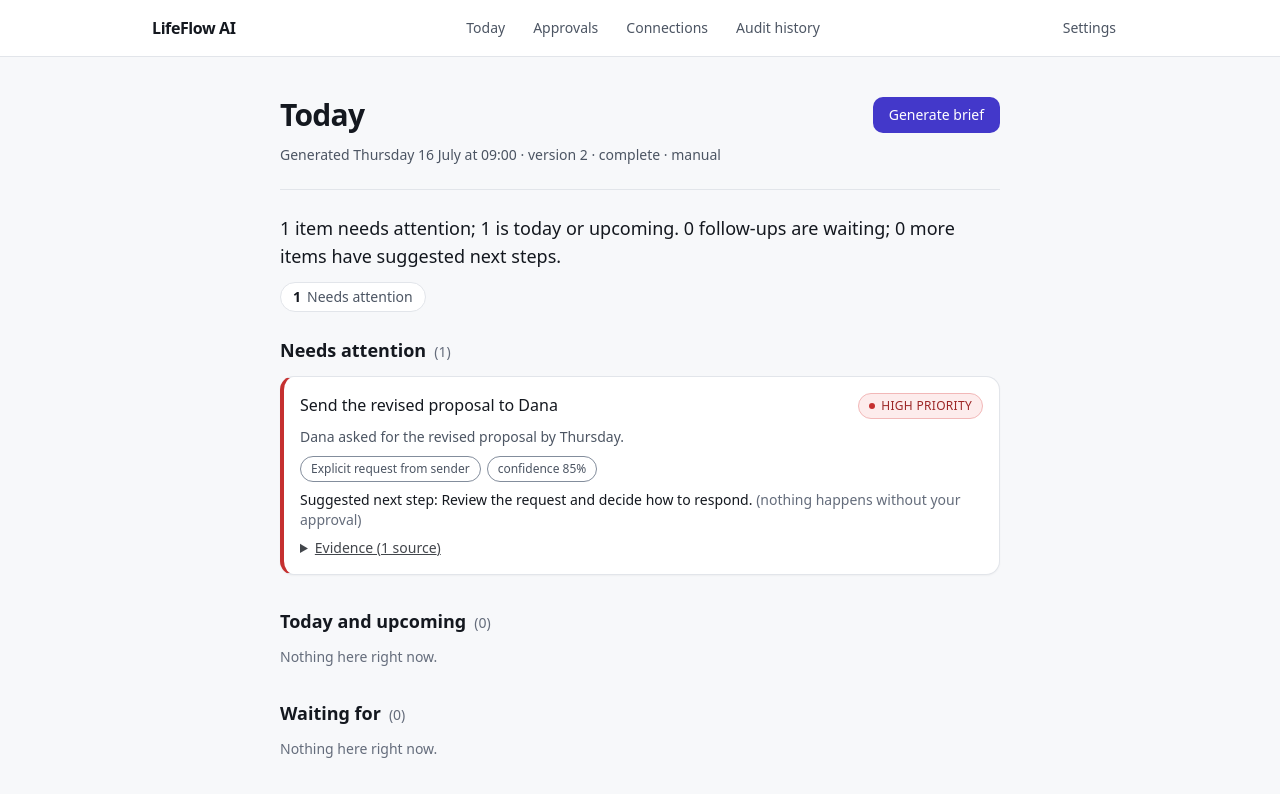
Scenario: issues one generation request and disables the control while it is in flight
Expected: the text "version 2" is shown, [280,145,721,164]
Click the button "Generate brief" at (936, 115), box [873,97,1000,133]
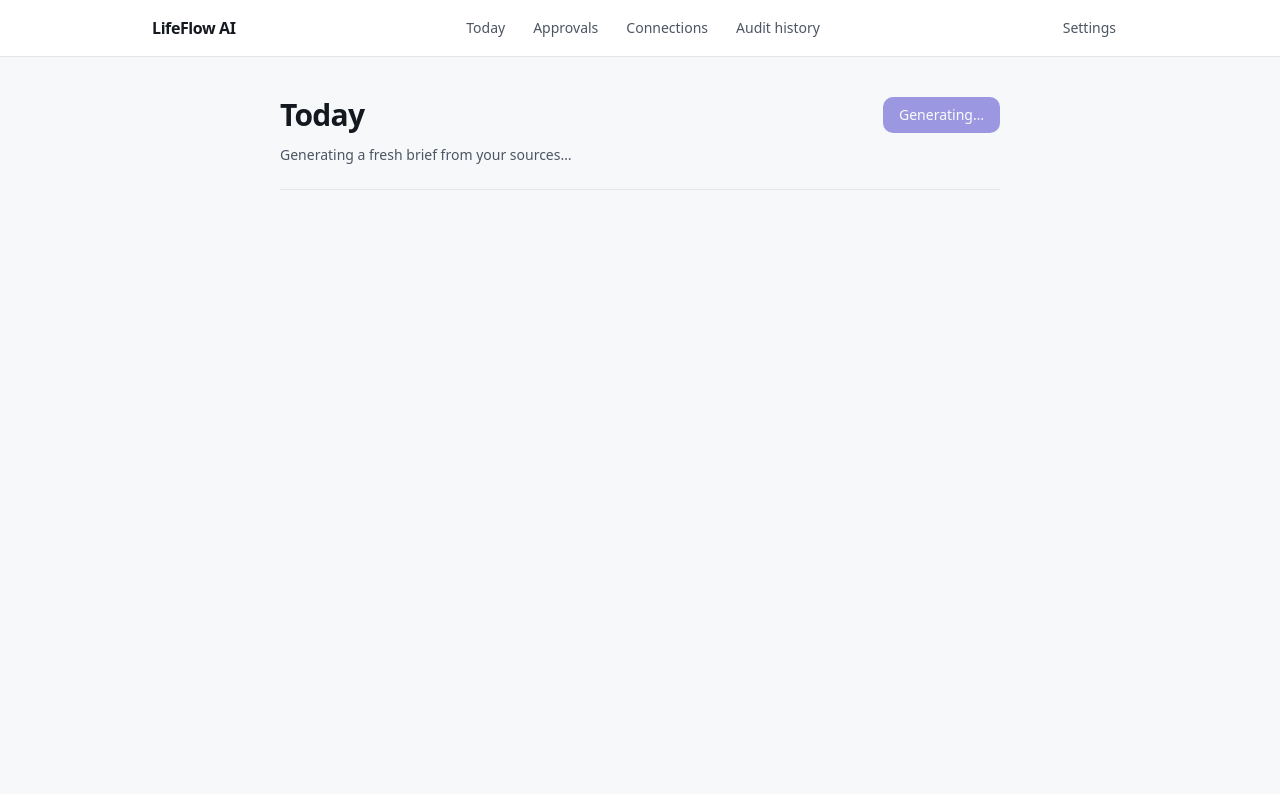
Expected: the button named "Generate brief" is disabled
Click the button named "Generate brief" at (942, 115), box [883,97,1000,133]
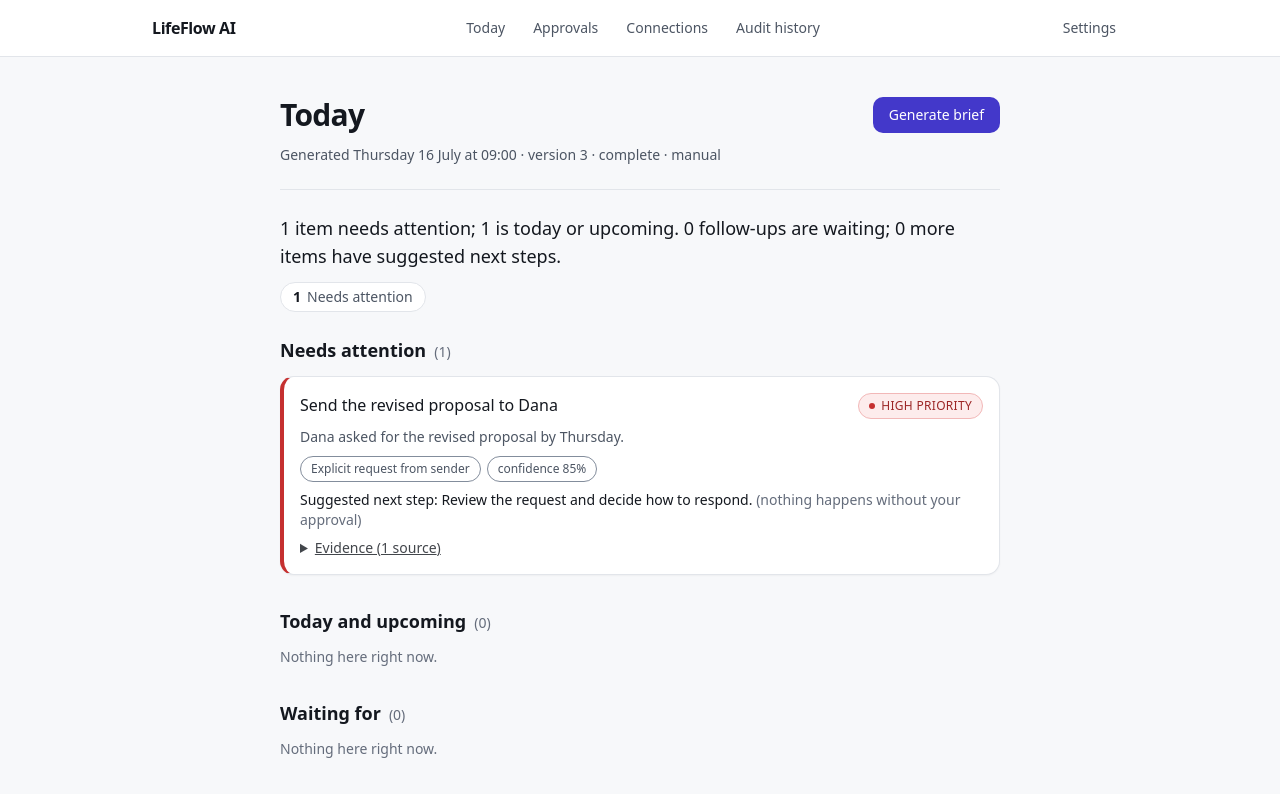
Expected: the text "version 3" is shown, [280,145,721,164]
Expected: the button "Generate brief" is enabled, [873,97,1000,133]
